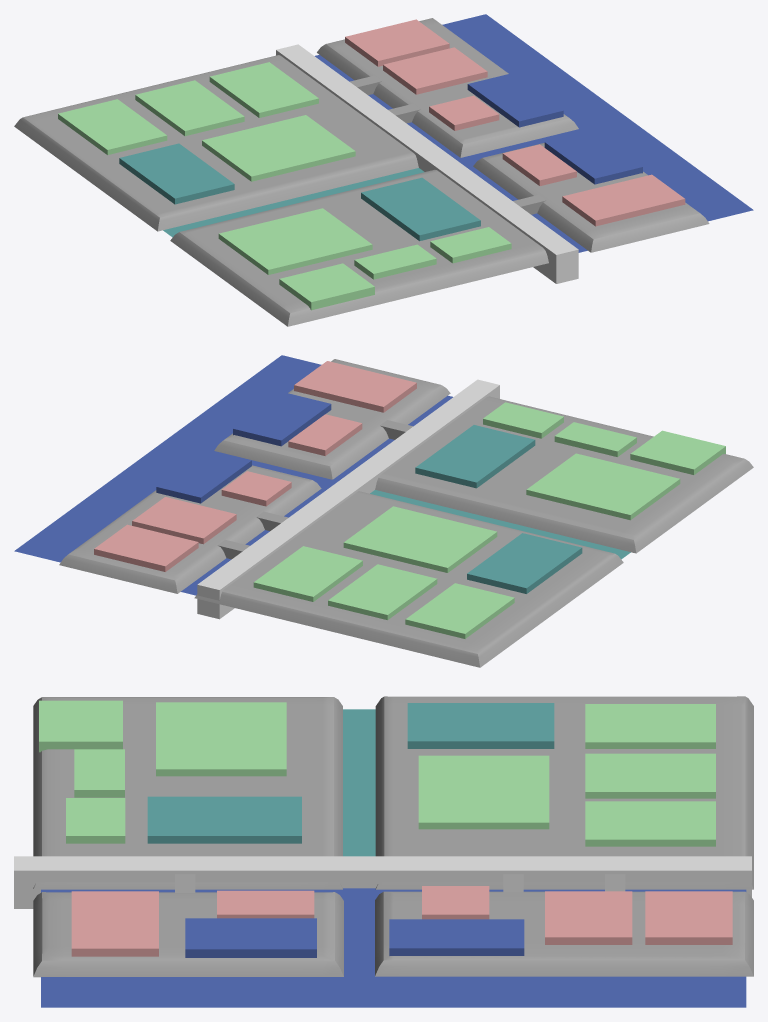
Rendered from playground ver2.fbx.
3 views of the same model, one above another, from view 1: azimuth 30°, elevation 25°; view 2: azimuth 150°, elevation 25°; view 3: azimuth 270°, elevation 25° (orthographic). The views are drawn at different scales.
Parts seen in each view (by area): view 1: polySurface4, polySurface2, polySurface7, pCube20, polySurface5, polySurface3, pCube5, pCube4, pCube9, pCube21, pCube12, pCube2 (+12 smaller); view 2: polySurface4, polySurface2, polySurface7, polySurface5, pCube20, polySurface3, pCube4, pCube5, pCube9, pCube21, pCube12, pCube3 (+12 smaller); view 3: polySurface4, polySurface7, polySurface2, pCube20, polySurface5, polySurface3, pCube4, pCube5, pCube9, pCube21, pCube3, pCube2 (+12 smaller).
Part boxes in pixels (x1=…): polySurface4: x1=14, y1=55, x2=418, y2=231; polySurface2: x1=170, y1=169, x2=548, y2=326; polySurface7: x1=315, y1=14, x2=753, y2=252; pCube20: x1=276, y1=44, x2=578, y2=283; polySurface5: x1=317, y1=18, x2=578, y2=157; polySurface3: x1=473, y1=143, x2=709, y2=252; pCube5: x1=218, y1=208, x2=372, y2=274; pCube4: x1=202, y1=115, x2=355, y2=181; pCube9: x1=361, y1=177, x2=480, y2=241; pCube21: x1=119, y1=143, x2=234, y2=204; pCube12: x1=562, y1=174, x2=685, y2=226; pCube2: x1=135, y1=80, x2=244, y2=136; polySurface4: x1=194, y1=491, x2=623, y2=667; polySurface2: x1=375, y1=396, x2=753, y2=553; polySurface7: x1=14, y1=355, x2=452, y2=595; polySurface5: x1=59, y1=465, x2=321, y2=593; pCube20: x1=197, y1=379, x2=499, y2=619; polySurface3: x1=214, y1=359, x2=450, y2=479; pCube4: x1=343, y1=506, x2=497, y2=572; pCube5: x1=526, y1=453, x2=680, y2=520; pCube9: x1=415, y1=425, x2=535, y2=488; pCube21: x1=467, y1=533, x2=582, y2=593; pCube12: x1=294, y1=361, x2=416, y2=412; pCube3: x1=253, y1=546, x2=362, y2=601; polySurface4: x1=375, y1=696, x2=753, y2=889; polySurface7: x1=41, y1=888, x2=746, y2=1007; polySurface2: x1=33, y1=697, x2=342, y2=889; pCube20: x1=14, y1=856, x2=751, y2=908; polySurface5: x1=375, y1=891, x2=753, y2=976; polySurface3: x1=33, y1=892, x2=343, y2=977; pCube4: x1=418, y1=755, x2=549, y2=829; pCube5: x1=156, y1=702, x2=286, y2=776; pCube9: x1=147, y1=796, x2=301, y2=843; pCube21: x1=407, y1=703, x2=554, y2=748; pCube3: x1=585, y1=801, x2=715, y2=846; pCube2: x1=585, y1=753, x2=715, y2=798.
Bounding box in the file's own units: 28.14 × 1.87 × 29.21.
